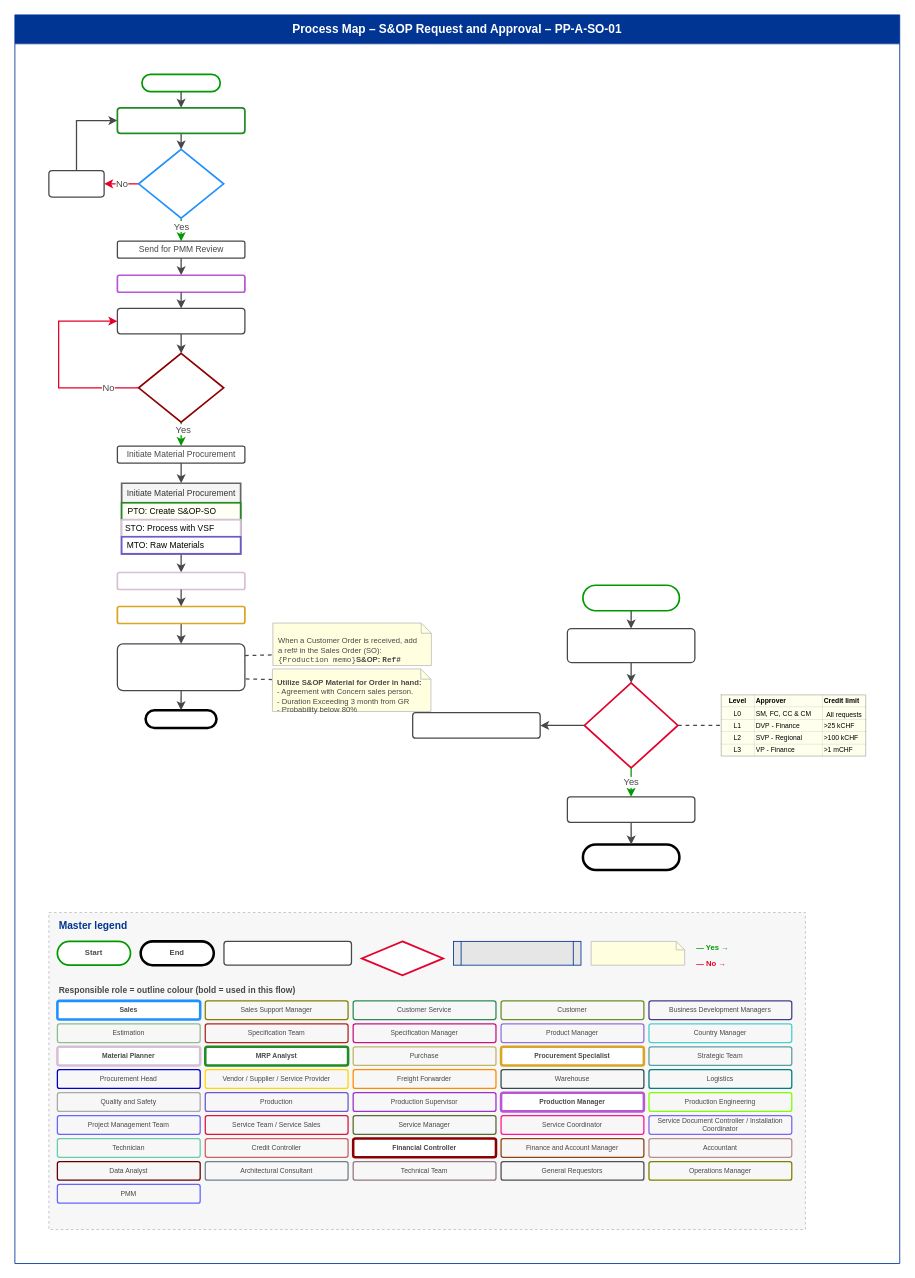
Image size: 915x1278. Some labels were removed from this diagram. The centre of each missing label's shape, as x and y in pixels:
"Activity (outline = role)" goes at (x=287, y=952).
"Approval Process" goes at (x=631, y=597).
"Approved?" goes at (x=630, y=725).
"Compile request by SO number and create an approval process, Daily once." goes at (x=630, y=645).
"Complete" goes at (x=180, y=718).
"Data analysis for Optimal Quanity Order" goes at (x=180, y=320).
"Decision" goes at (x=402, y=958).
"Execution" goes at (x=630, y=857).
"Finance Approved ?" goes at (x=180, y=387).
"Linked process (Ref ID)" goes at (x=517, y=953).
"Note / checklist" goes at (x=637, y=953).
"Notify the requestor" goes at (x=76, y=183).
"PMM Review and Comments" goes at (x=180, y=283).
"Process Purchase Requisition" goes at (x=180, y=580).
"Procure Materials" goes at (x=180, y=614).
"S&OP Team to monitor control and Report" goes at (x=180, y=667).
"Sales, Manager Approved ?" goes at (x=180, y=183).
"Start Process" goes at (x=181, y=82).
"Status Complete, Notify CS on Rejection with comments!" goes at (x=476, y=725).
"Submit the S&OP Request form" goes at (x=180, y=120).
"Update Individual requests with approval Status" goes at (x=630, y=809).
